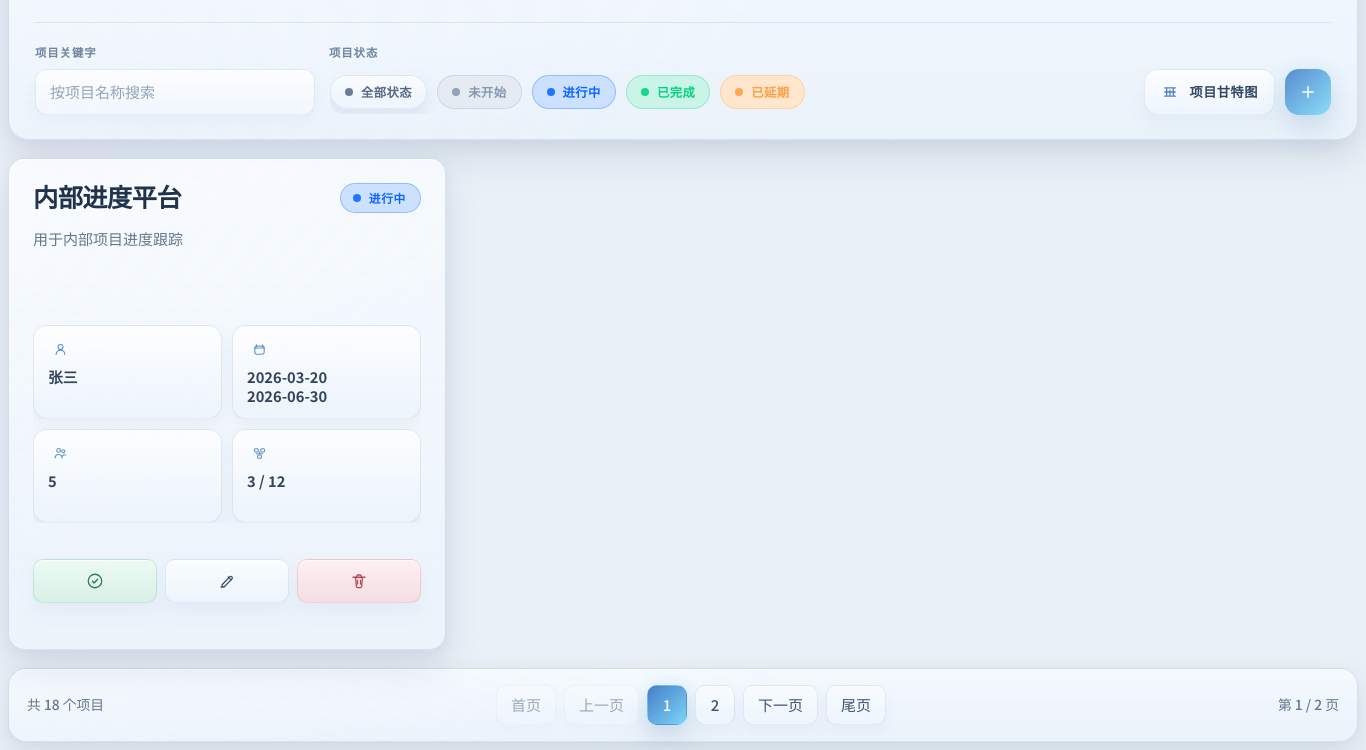
ProjectListView › uses a page size of nine projects and allows paging forward
(page scrolled)
Expected: the heading "内部进度平台" is shown, [33, 178, 181, 214]
Expected: the text "第 1 / 2 页" is shown, [1278, 694, 1339, 716]
Step 1. Click the button "下一页" → (780, 705), box [743, 685, 818, 725]
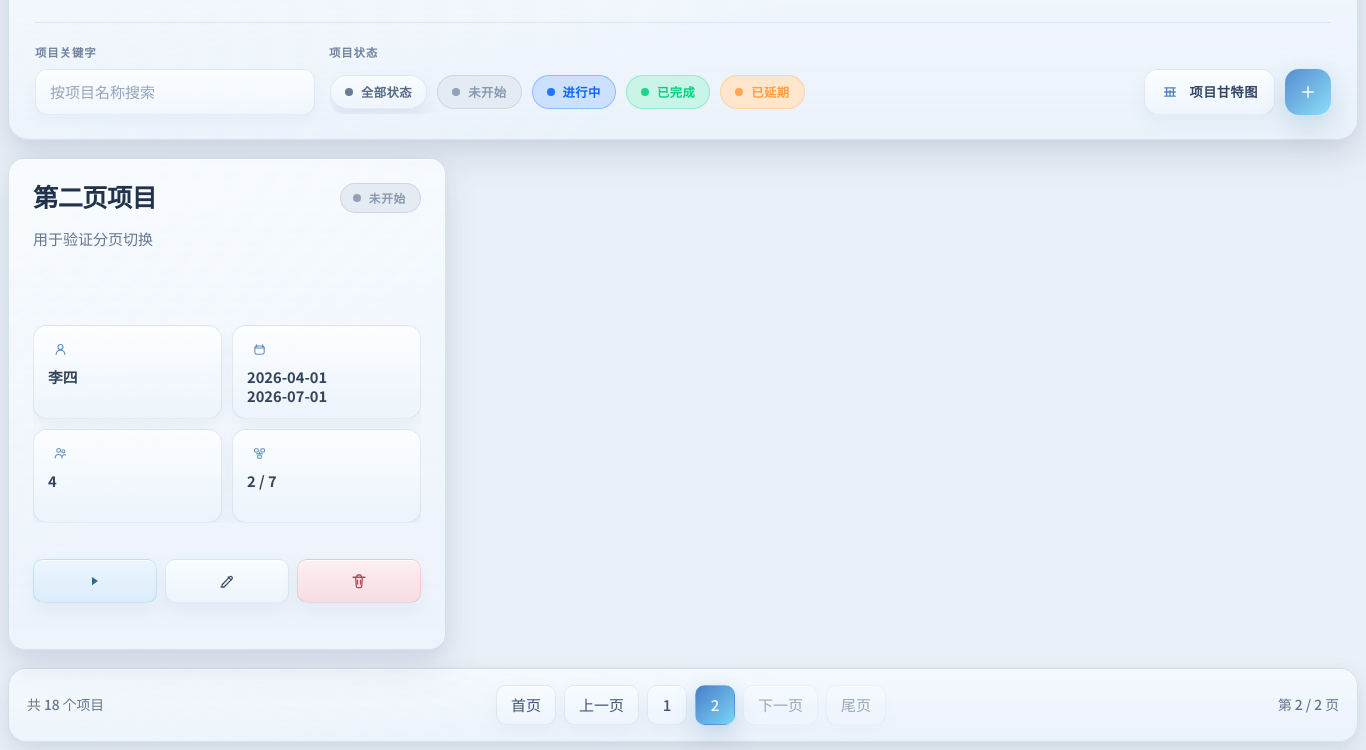
Expected: the heading "第二页项目" is shown, [33, 178, 156, 214]
Expected: the text "第 2 / 2 页" is shown, [1278, 694, 1339, 716]
